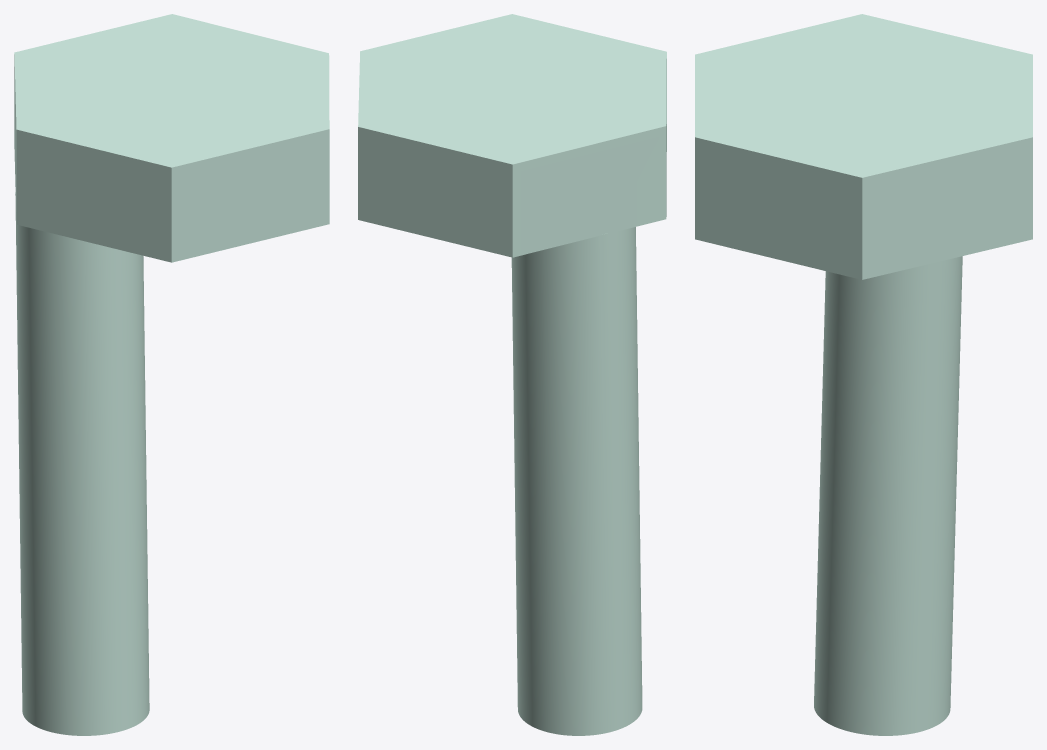
3 views of the same model, side by side, from view 1: azimuth 30°, elevation 25°; view 2: azimuth 150°, elevation 25°; view 3: azimuth 270°, elevation 25° (orthographic). The views are drawn at different scales.
Parts seen in each view (by area): view 1: Renderer Node; view 2: Renderer Node; view 3: Renderer Node.
Part boxes in pixels (bbox=[...]): Renderer Node: bbox=[14, 14, 329, 735]; Renderer Node: bbox=[358, 14, 666, 735]; Renderer Node: bbox=[695, 14, 1032, 735].
Bounding box in the file's own units: 0.4034 × 0.7498 × 0.3516.
